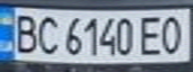0: (115, 14, 139, 56)
1: (78, 15, 100, 56)
4: (96, 15, 121, 56)
6: (60, 14, 84, 56)
B: (9, 10, 42, 54)
C: (33, 12, 60, 55)
E: (136, 12, 166, 56)
O: (157, 12, 190, 55)
